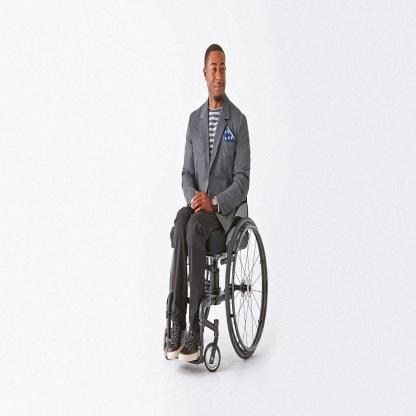wheelchair: (164, 42, 270, 373)
